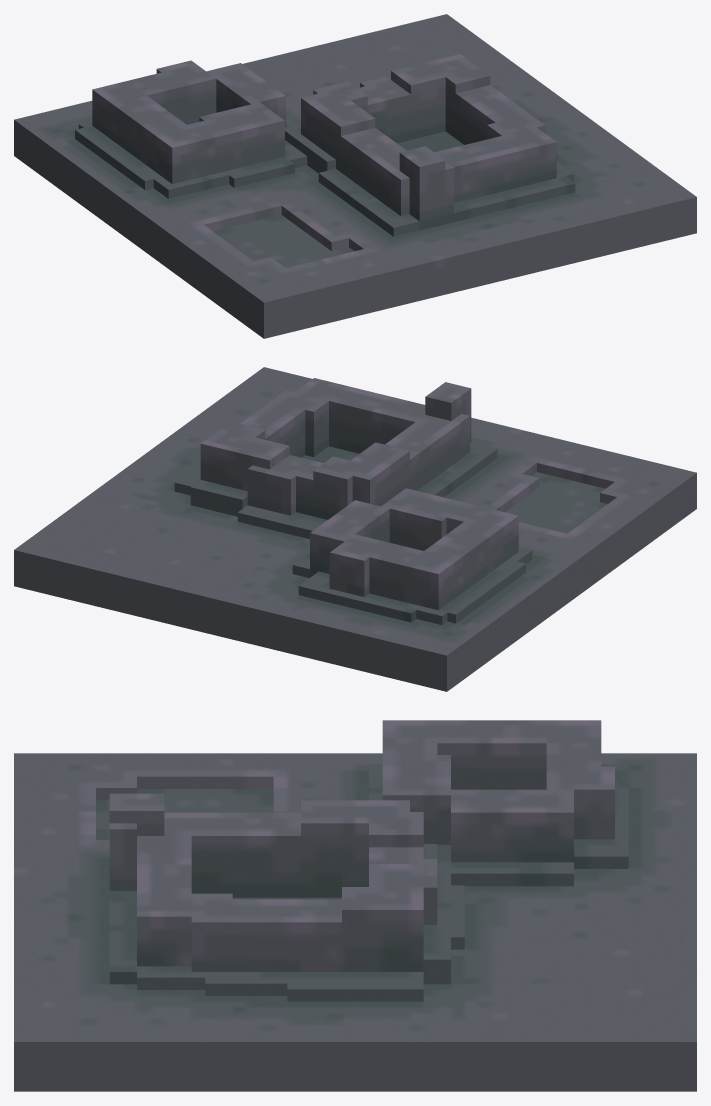
Rendered from Crater_4.fbx.
The picture shows the model from 3 angles, top to bottom: view 1: azimuth 30°, elevation 25°; view 2: azimuth 150°, elevation 25°; view 3: azimuth 270°, elevation 25°; orthographic projection. The views are drawn at different scales.
Visible parts, largest first — view 1: Crater_4; view 2: Crater_4; view 3: Crater_4.
Boxes of the visible parts, x1,y1,x2,y2 form: Crater_4: (14,14,696,338); Crater_4: (14,367,696,691); Crater_4: (14,720,696,1091).
Size of the model in its own units: 250 by 55 by 250.
